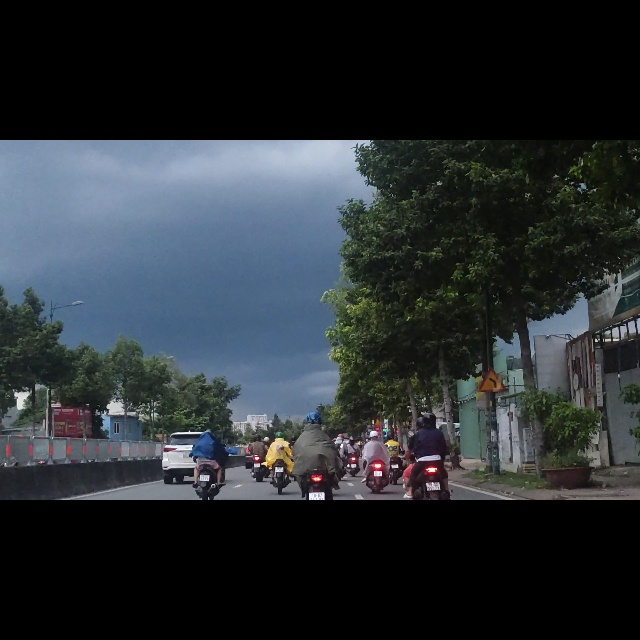bien_hieu_lenh: (477, 404, 508, 449)
